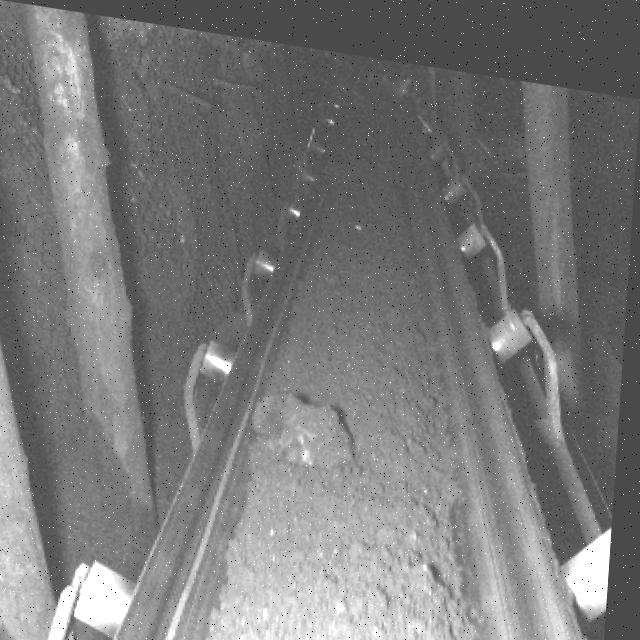large_sized_coal: (252, 380, 364, 461)
